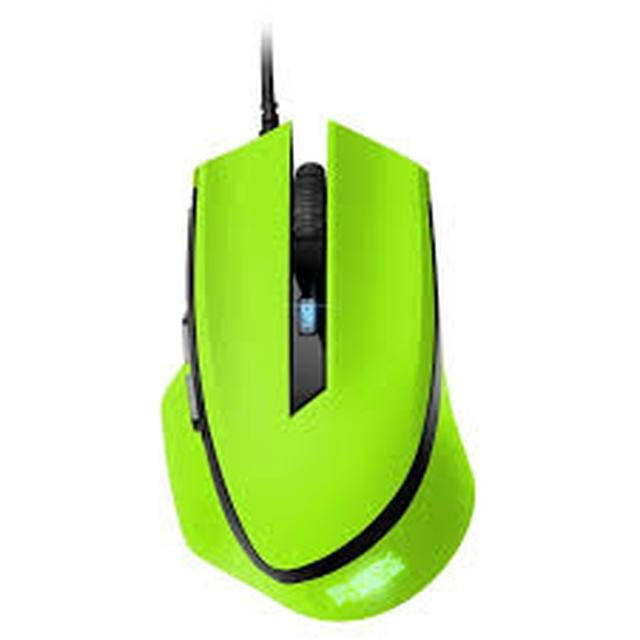mouse: (133, 83, 480, 640)
